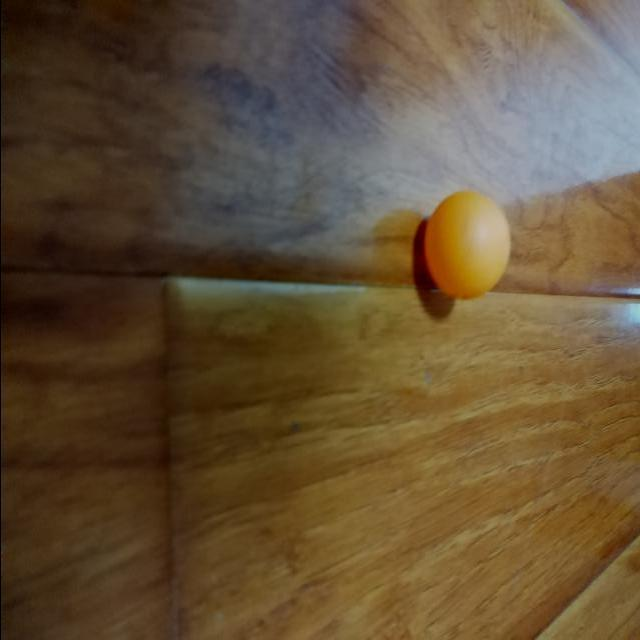ping-pong-ball: (423, 191, 508, 299)
